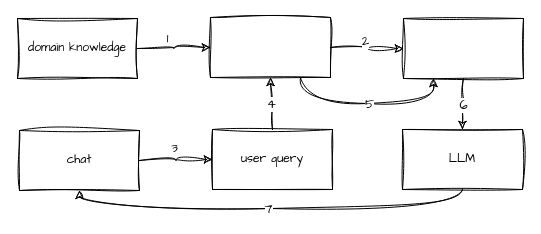
Some shapes in this 541 by 234 pixel diagram are drawn without their labels. The shapes that lost their labels are listed below. From the top down, each one's centre as x and y in pixels, then its label:
(270,47): embedder
(463,48): vector database
